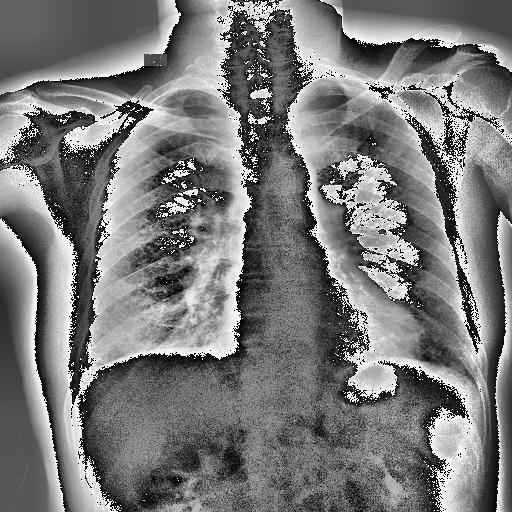11- Pleural thickening: (360, 79, 406, 115)
3- Cardiomegaly: (216, 312, 424, 360)
5- ILD: (84, 146, 213, 372), (357, 144, 477, 374), (401, 138, 474, 346), (96, 142, 150, 353), (396, 287, 488, 379), (352, 128, 422, 216)
9- Other lesion: (401, 138, 474, 346), (96, 142, 150, 353)
